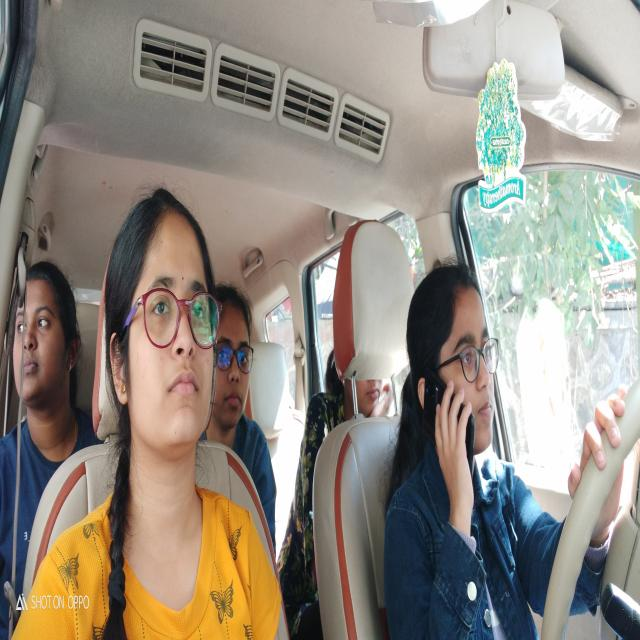person: (97, 167, 228, 492), (406, 254, 518, 486), (10, 255, 84, 428), (212, 259, 264, 446), (418, 349, 482, 472)
